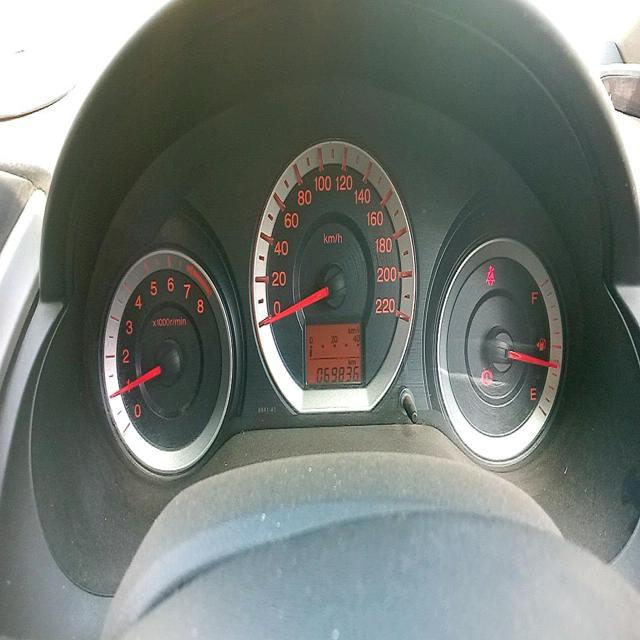odometer: (314, 362, 362, 386)
